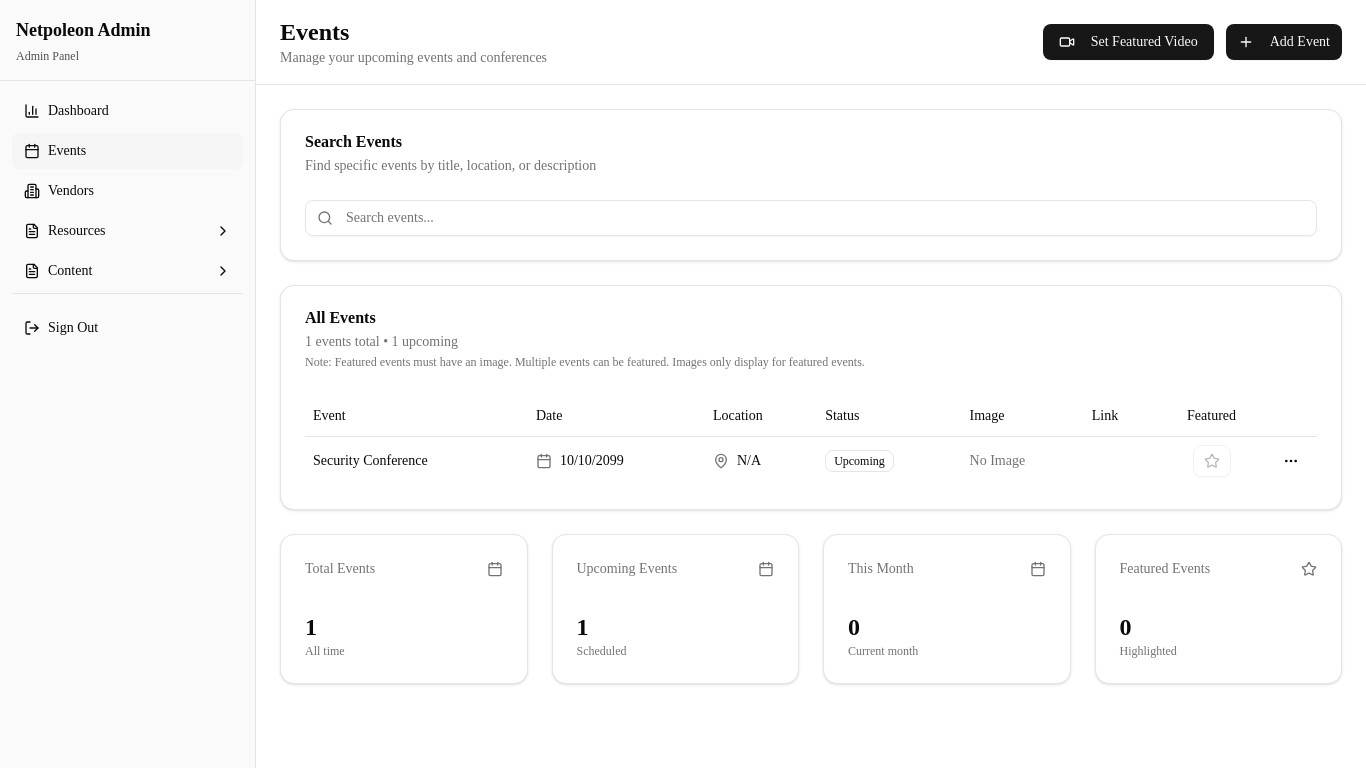
Test case: Admin Events Page › updates an event title via edit and reflects in list
The image size is (1366, 768).
Check: the text "All Events" is shown, box [305,309,376,326]
Click the button with test id "row-menu" at x=1291, y=460, box [1275,444,1307,476]
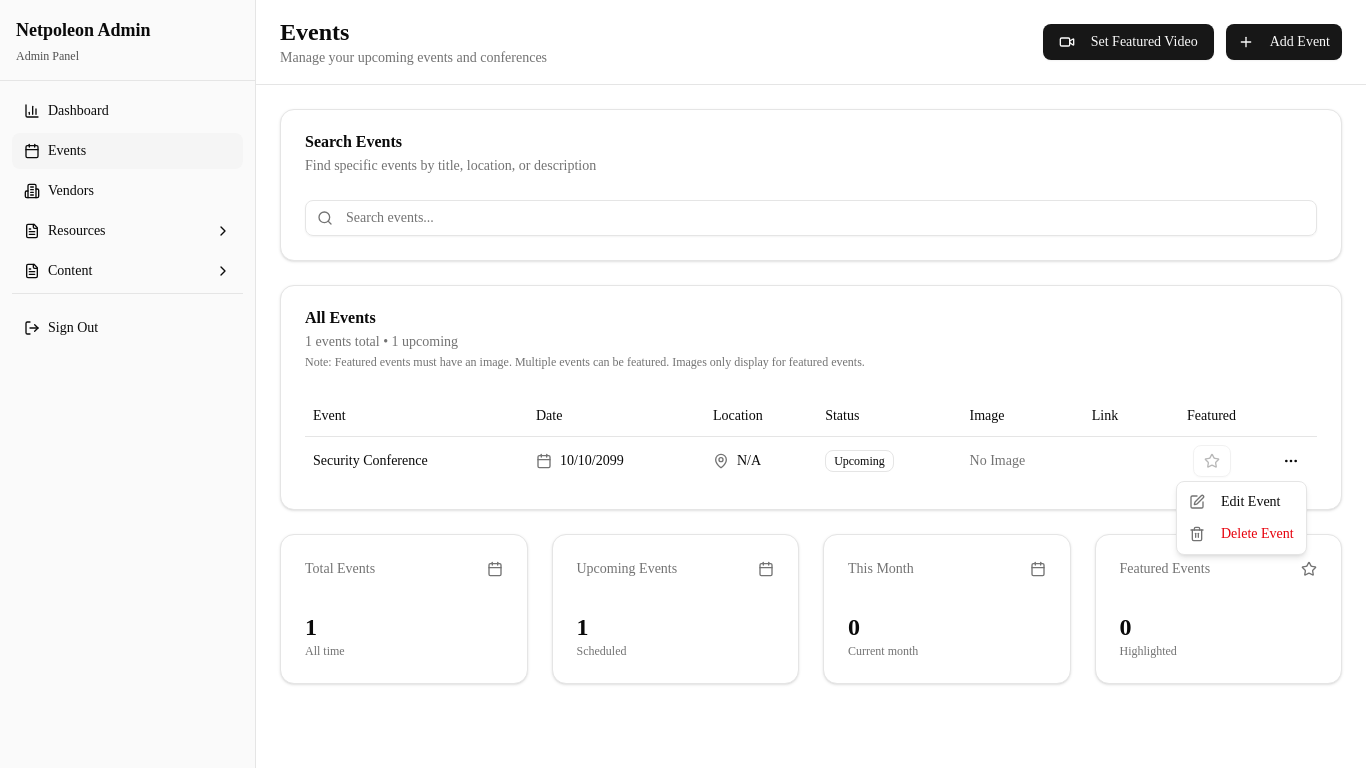
Click the menu item "Edit Event" at x=1235, y=502, box [1189,494,1280,510]
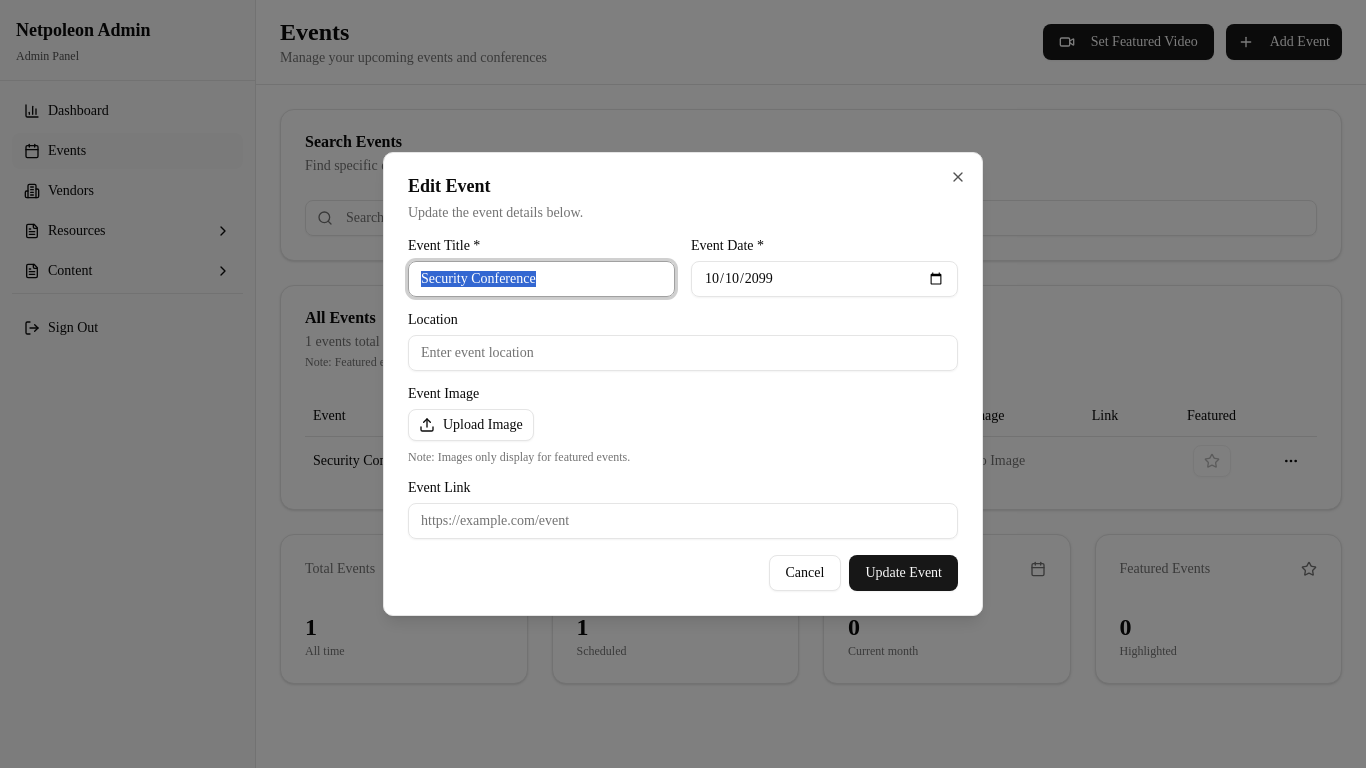
Replace the text in the field labelled "Event Title *" with "Security Summit" at x=542, y=279, box [408,261,675,297]
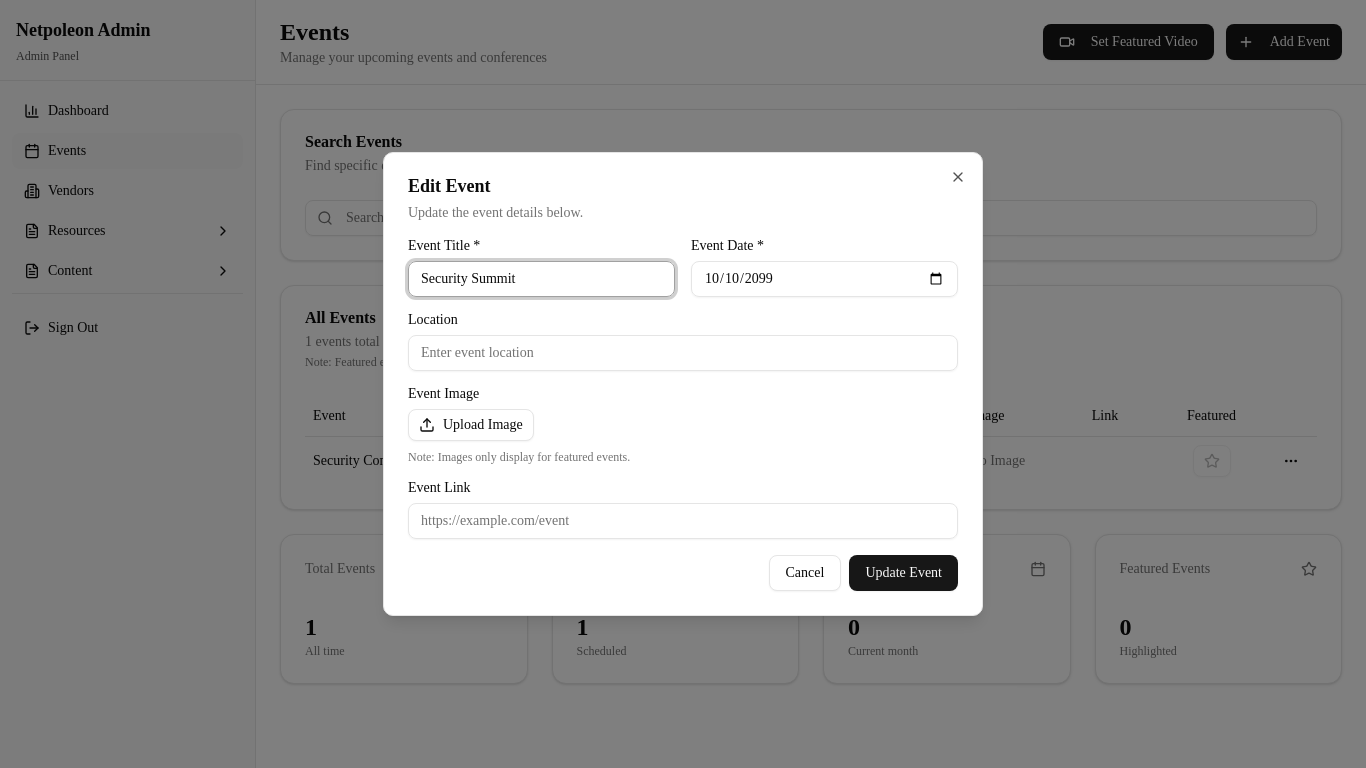
Click the button "Update Event" at x=904, y=573, box [849,555,958,591]
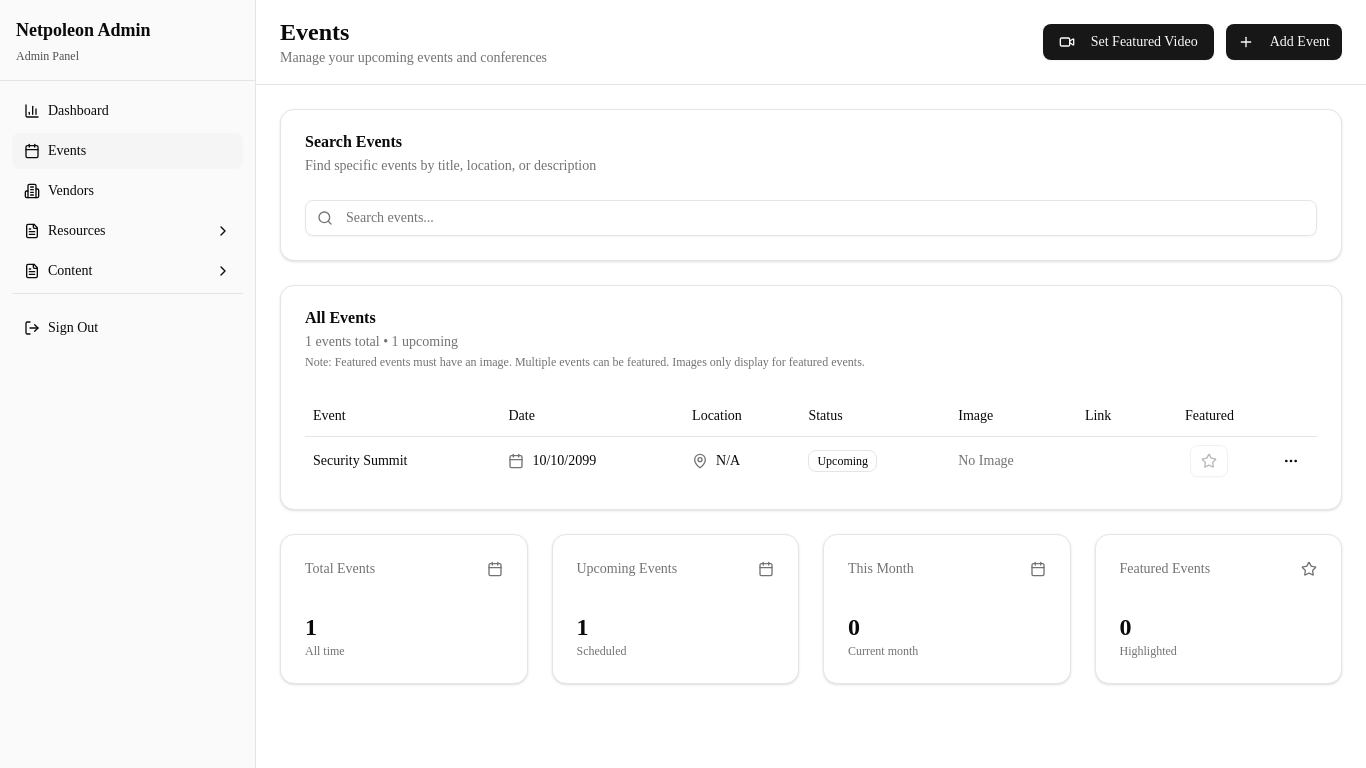
Check: the text "Security Summit" is shown, box [313,452,408,468]
Check: the text "Security Conference" is gone
